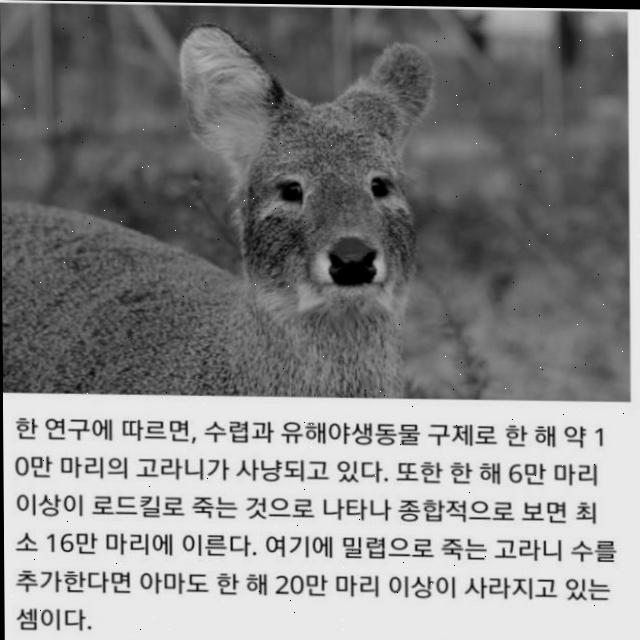Deer: (1, 28, 446, 395)
